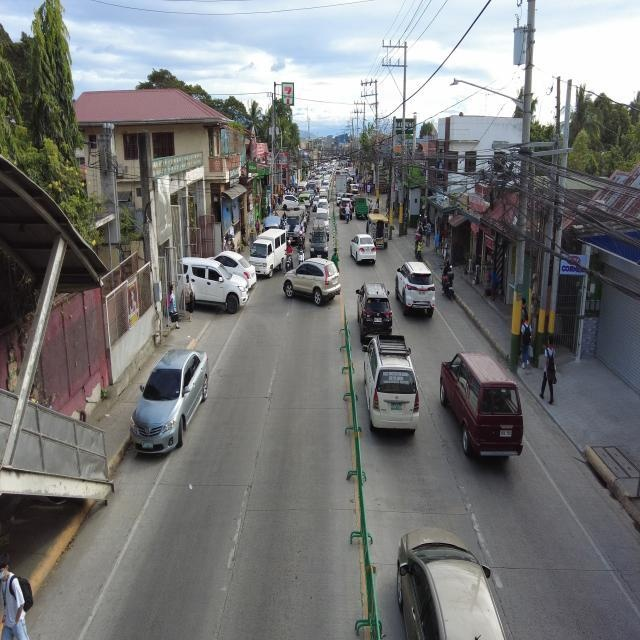Motorcycle: (281, 239, 293, 271), (296, 238, 304, 261)
